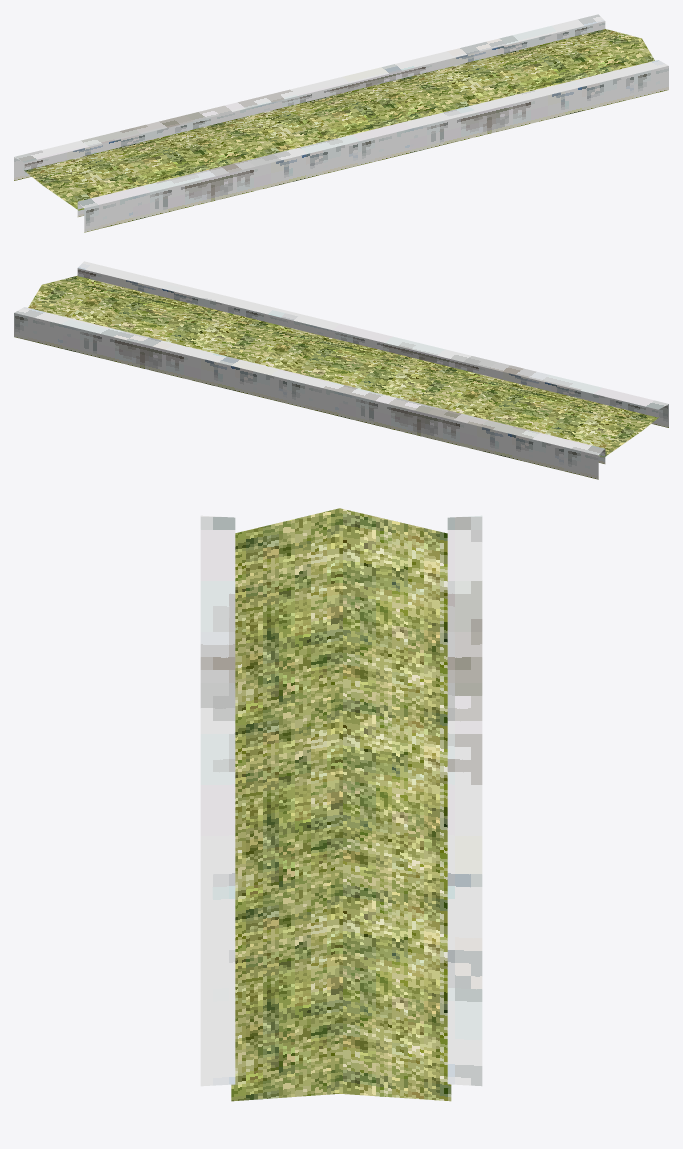
File: Environment - Prop - Mdn GRS 01 M - PMMdnGRS01_M.glb
3 renders of one model, top to bottom at view 1: azimuth 30°, elevation 25°; view 2: azimuth 150°, elevation 25°; view 3: azimuth 270°, elevation 25°, orthographic. The views are drawn at different scales.
Visible parts, largest first — view 1: PMMDNGRS01_M; view 2: PMMDNGRS01_M; view 3: PMMDNGRS01_M.
Boxes of the visible parts, x1,y1,x2,y2 form: PMMDNGRS01_M: (14, 14, 668, 232); PMMDNGRS01_M: (14, 261, 668, 479); PMMDNGRS01_M: (200, 508, 482, 1101).
Size of the model in its own units: 61.97 by 2.39 by 12.6.
1 material, 1 textured.
